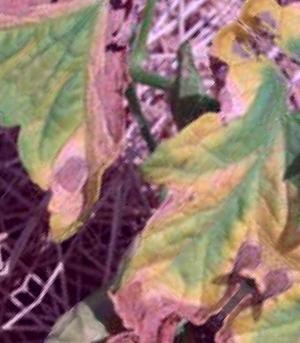Tomato Early blight leaf: (44, 38, 300, 343), (0, 0, 203, 250)
